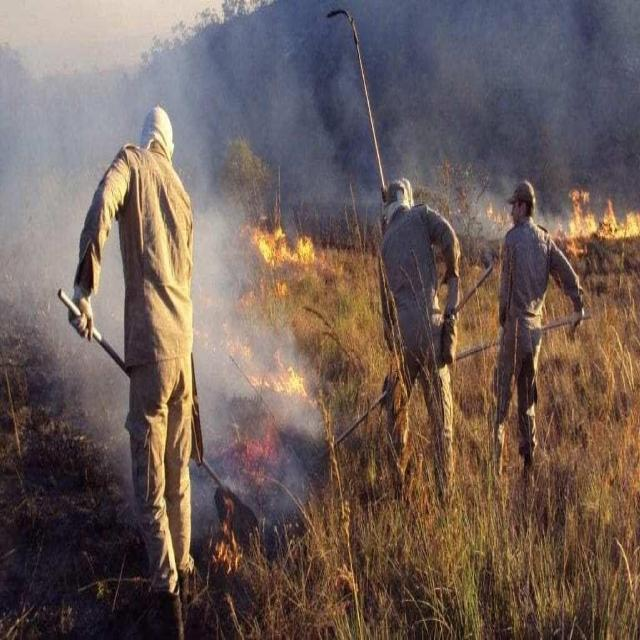Fire: (203, 340, 322, 405), (243, 212, 316, 299), (562, 182, 640, 260), (230, 423, 280, 485), (206, 497, 242, 564), (486, 202, 509, 225)
